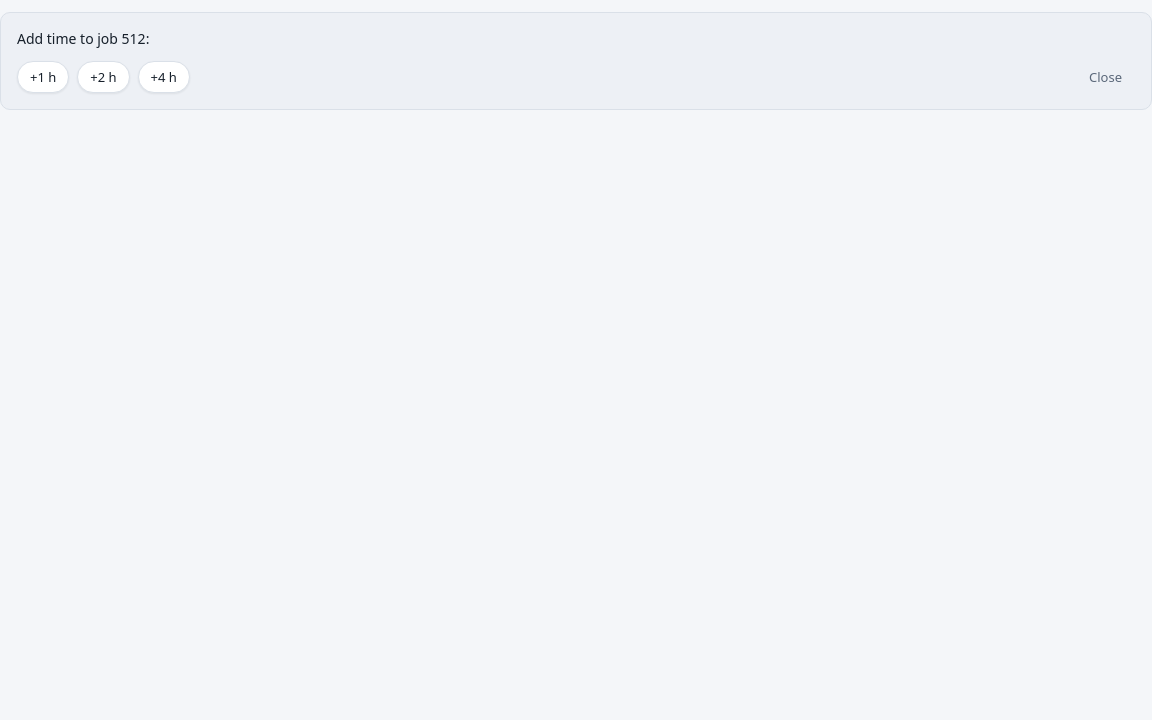
it: ExtendDialog › shows the server's over-cap refusal verbatim
The width and height of the screenshot is (1152, 720).
Click the button "+4 h": (164, 77) 138,61 -> 190,93
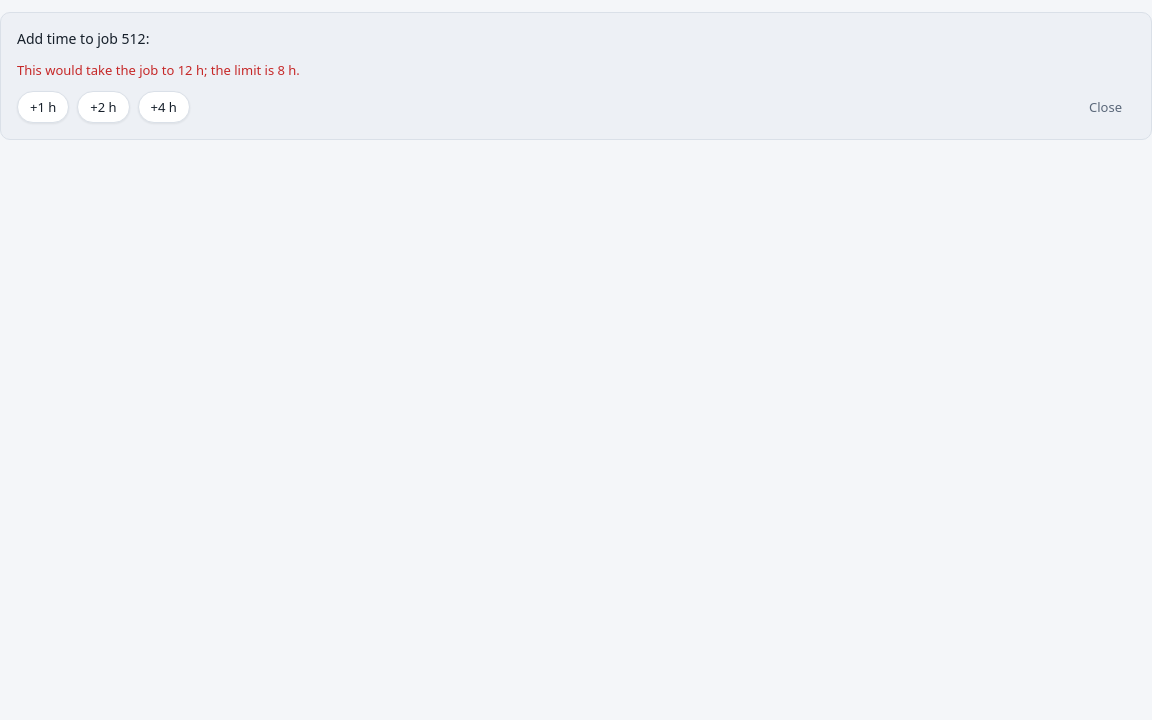
Now the message reads "This would take the job to 12 h; the limit is 8 h.", box 17,61 -> 300,79
